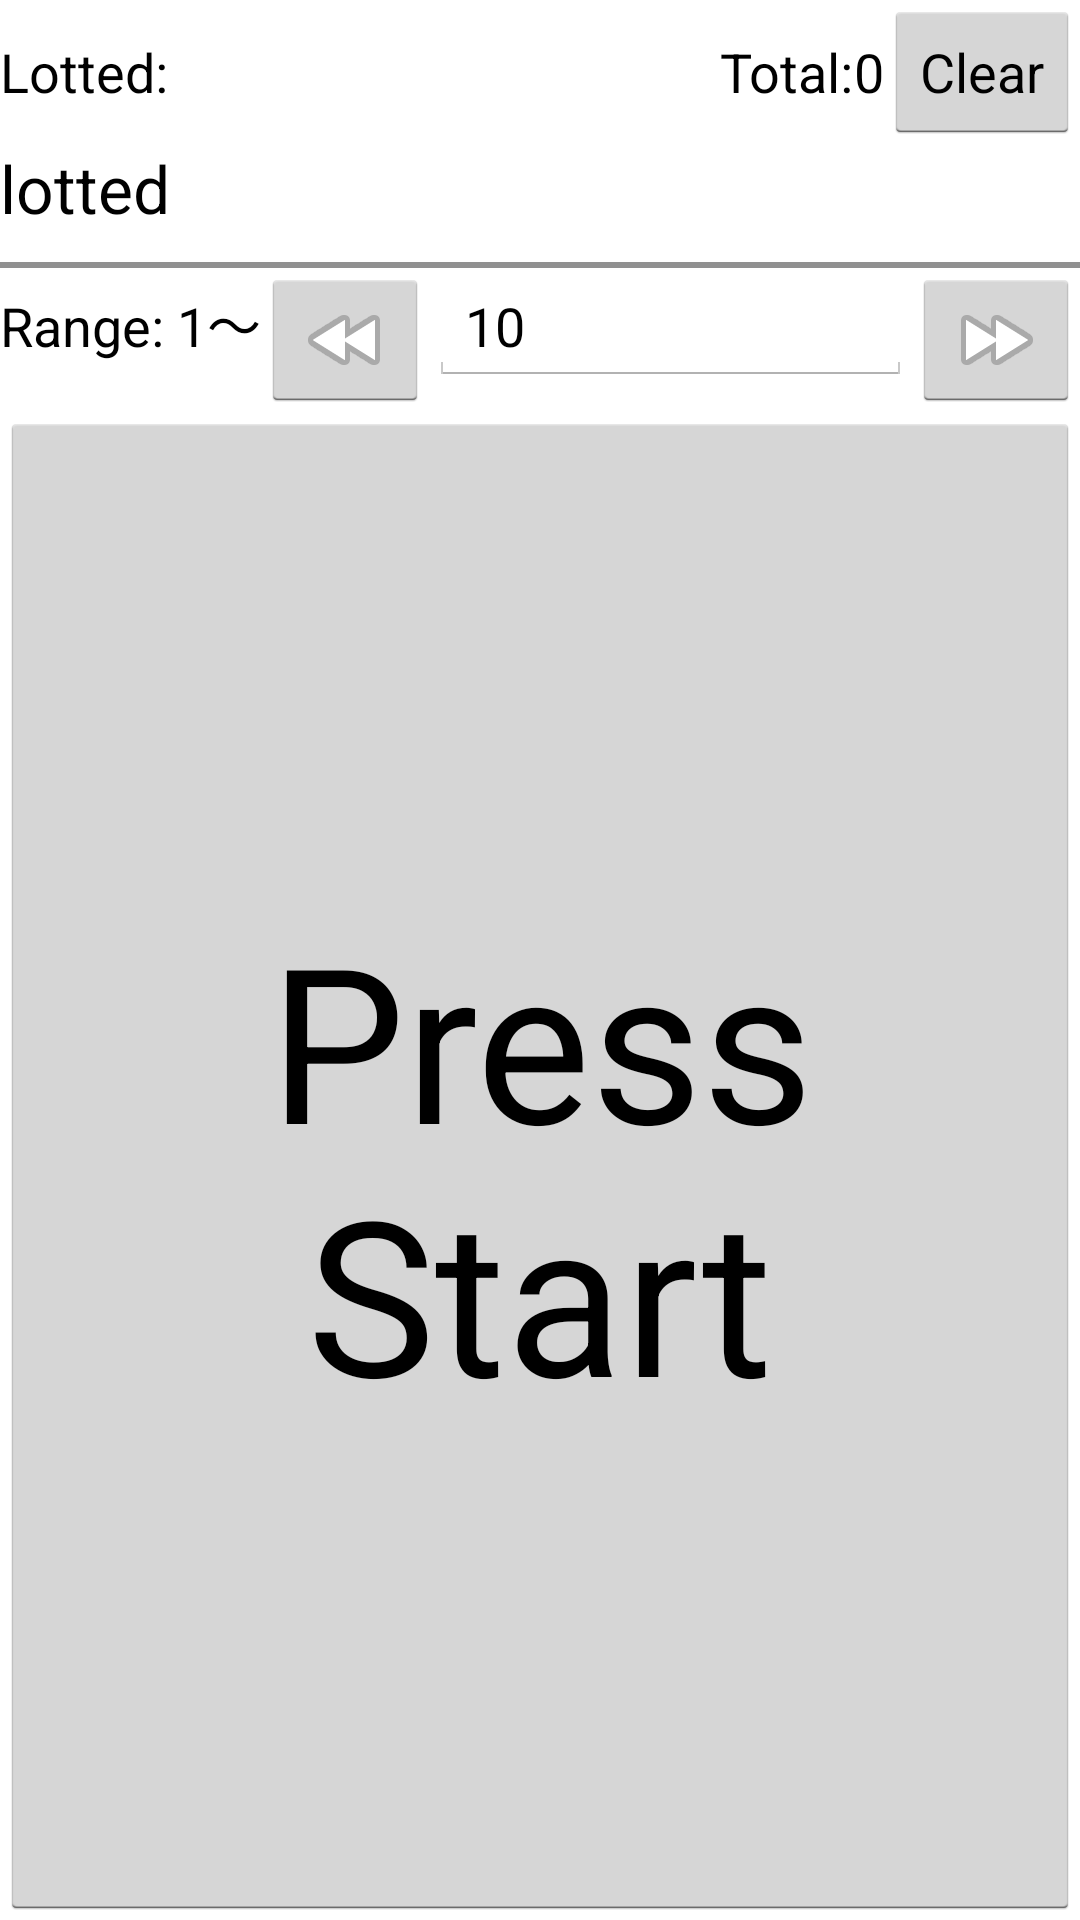

Icon bounding boxes for this 1080w x 1920h phone screenshot, format (x1, y1, x2, y2):
rew: (273, 281, 417, 401)
